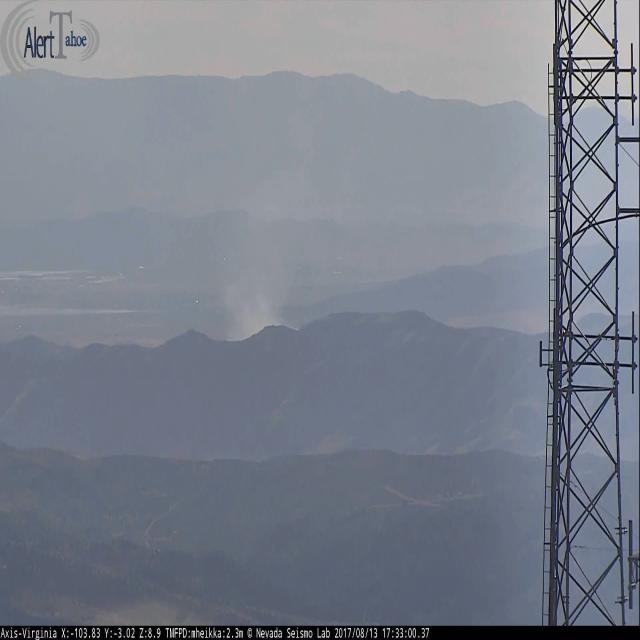smoke: (225, 276, 290, 340)
